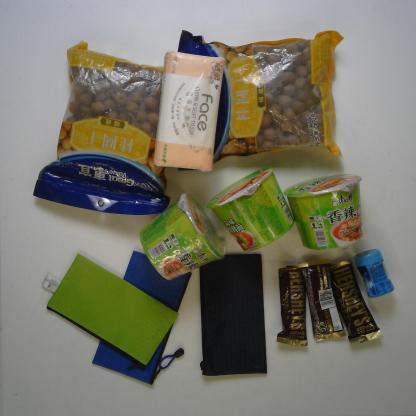Chocolate: (328, 258, 383, 346), (298, 258, 346, 343), (276, 265, 308, 347)
Dried Food: (32, 41, 172, 216), (176, 30, 344, 172)
Gum: (353, 248, 395, 299)
Instant Noodles: (139, 193, 225, 281), (209, 165, 294, 252), (283, 173, 364, 250)
Stationery: (45, 253, 180, 371), (92, 250, 192, 386), (197, 254, 267, 376)
Tissue: (153, 51, 226, 172)
